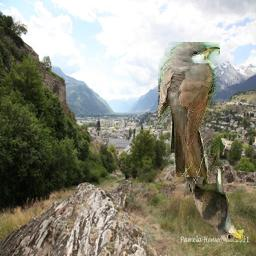Cuckoo: (158, 43, 220, 178), (174, 150, 246, 242)
